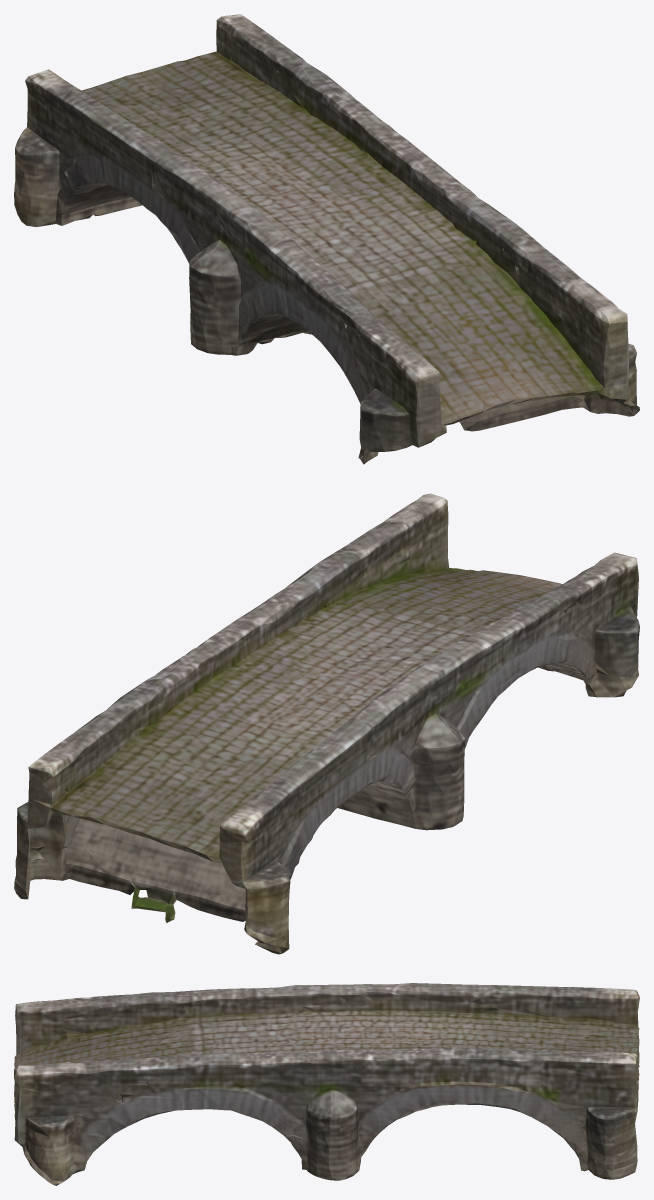
The model's file is bridge_stone.obj.
3 renders of one model, top to bottom at view 1: azimuth 30°, elevation 25°; view 2: azimuth 150°, elevation 25°; view 3: azimuth 270°, elevation 25°, orthographic. The views are drawn at different scales.
Visible parts, largest first — view 1: bridge_stone; view 2: bridge_stone; view 3: bridge_stone.
Boxes of the visible parts, x1,y1,x2,y2 form: bridge_stone: [14, 14, 639, 464]; bridge_stone: [14, 493, 639, 954]; bridge_stone: [14, 983, 639, 1185].
Size of the model in its own units: 6.3 by 3.38 by 16.
Materials: 1 (1 with a texture image).
